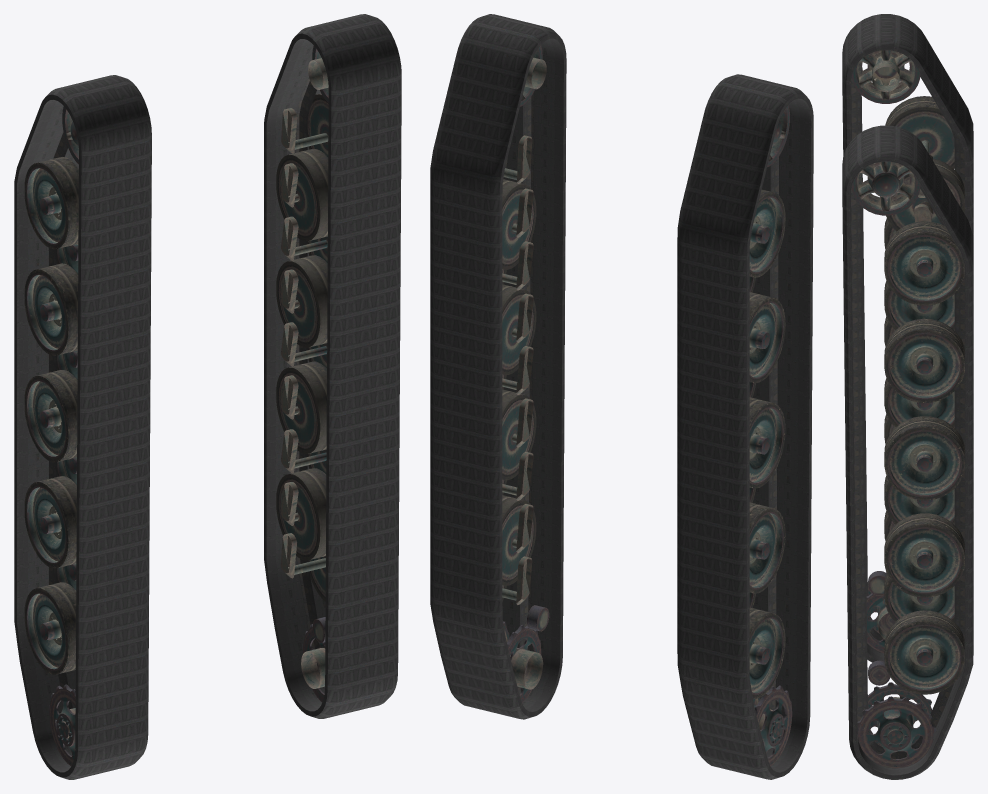
Rendered from Chassis.glb.
3 views of the same model, side by side, from view 1: azimuth 30°, elevation 25°; view 2: azimuth 150°, elevation 25°; view 3: azimuth 270°, elevation 25° (orthographic). The views are drawn at different scales.
Parts seen in each view (by area): view 1: set_3_group_0, set_2_group_0, set_1_group_0, set_0_group_0; view 2: set_2_group_0, set_3_group_0, set_0_group_0, set_1_group_0; view 3: set_0_group_0, set_3_group_0, set_1_group_0, set_2_group_0.
Part boxes in pixels (x1=…): set_3_group_0: x1=264, y1=14, x2=401, y2=718; set_2_group_0: x1=14, y1=75, x2=151, y2=779; set_1_group_0: x1=24, y1=106, x2=78, y2=765; set_0_group_0: x1=276, y1=45, x2=328, y2=702; set_2_group_0: x1=677, y1=74, x2=813, y2=779; set_3_group_0: x1=430, y1=14, x2=566, y2=719; set_0_group_0: x1=502, y1=45, x2=549, y2=703; set_1_group_0: x1=749, y1=105, x2=792, y2=765; set_0_group_0: x1=851, y1=161, x2=964, y2=768; set_3_group_0: x1=842, y1=125, x2=973, y2=779; set_1_group_0: x1=851, y1=50, x2=964, y2=653; set_2_group_0: x1=842, y1=14, x2=973, y2=662.
Bounding box in the file's own units: 3.37 × 6.92 × 1.31.
Materials: 4 (4 with a texture image).
